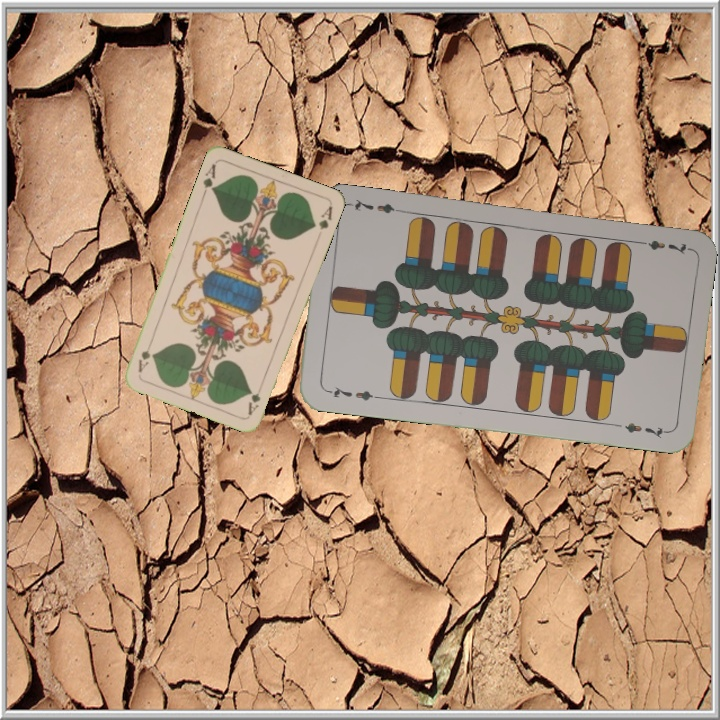E7: (322, 382, 381, 403), (632, 236, 691, 257)
GA: (199, 160, 218, 199), (244, 389, 263, 418)
